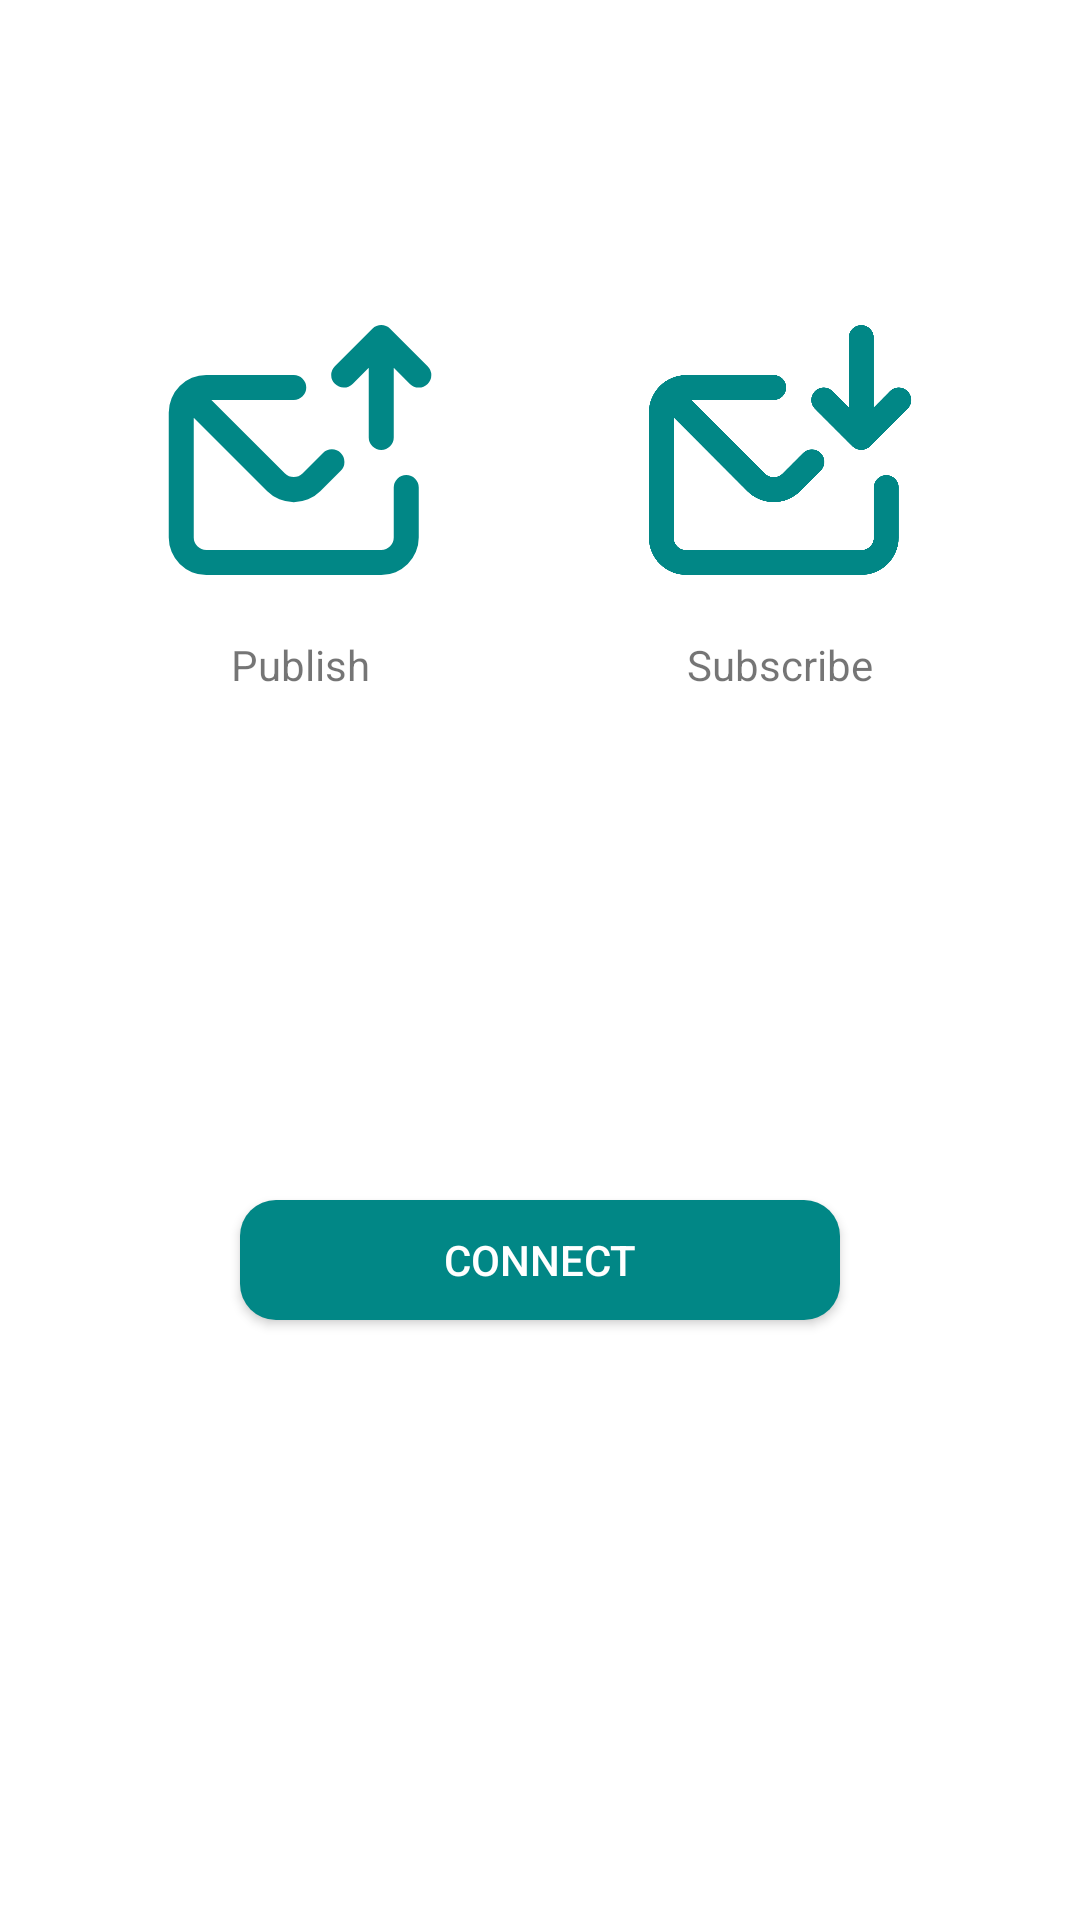

Point at icon controls on the screen. Image size 1080px×1920px, points as [x,y].
receive: [780,450]
send: [300,450]
